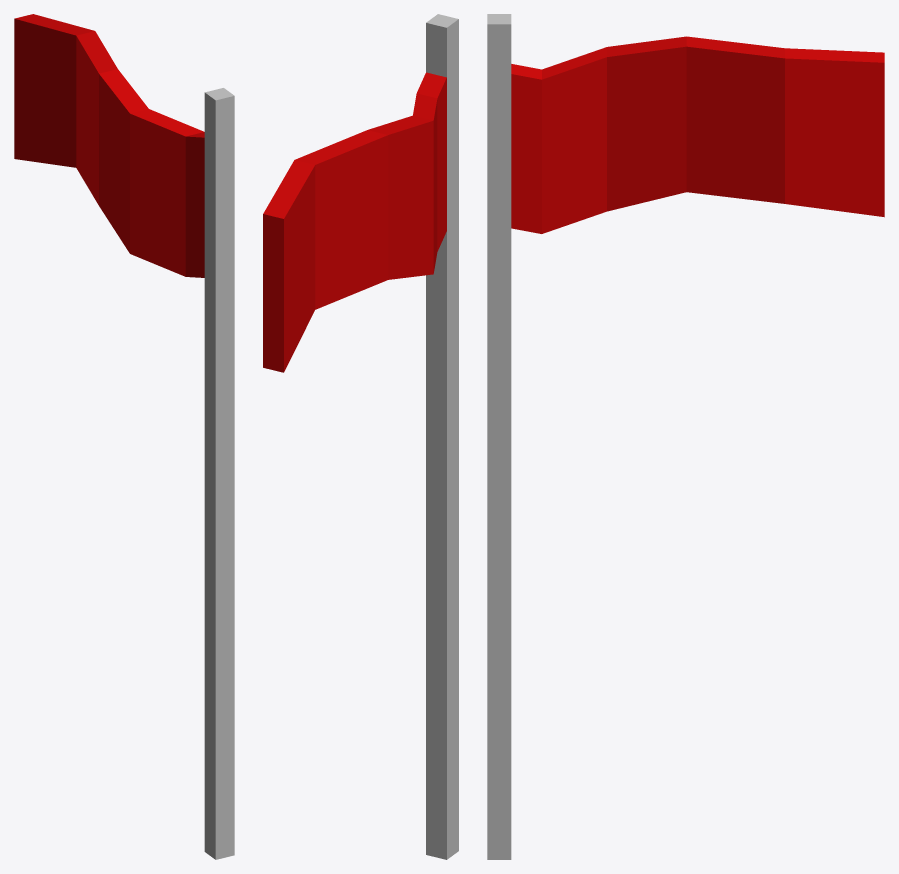
Rendered from flag_red.fbx.
3 views of the same model, side by side, from view 1: azimuth 30°, elevation 25°; view 2: azimuth 150°, elevation 25°; view 3: azimuth 270°, elevation 25° (orthographic). The views are drawn at different scales.
Visible parts, largest first — view 1: Cube.001_Cube.002; view 2: Cube.001_Cube.002; view 3: Cube.001_Cube.002.
Boxes of the visible parts, <box> form: Cube.001_Cube.002: <box>14,14,234,859</box>; Cube.001_Cube.002: <box>263,14,458,859</box>; Cube.001_Cube.002: <box>487,14,884,859</box>.
Size of the model in its own units: 60.71 by 875 by 377.
